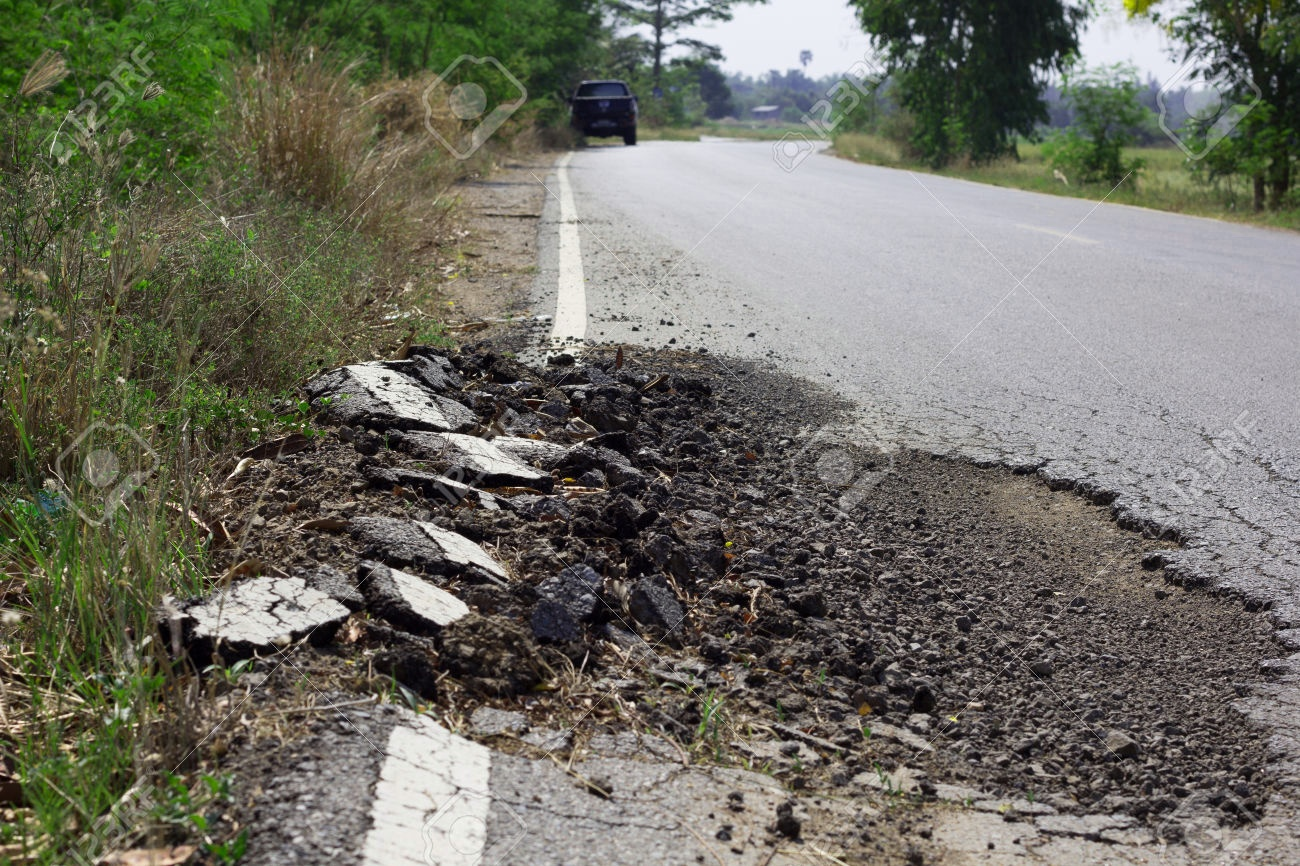pothole: (729, 435, 1299, 842)
